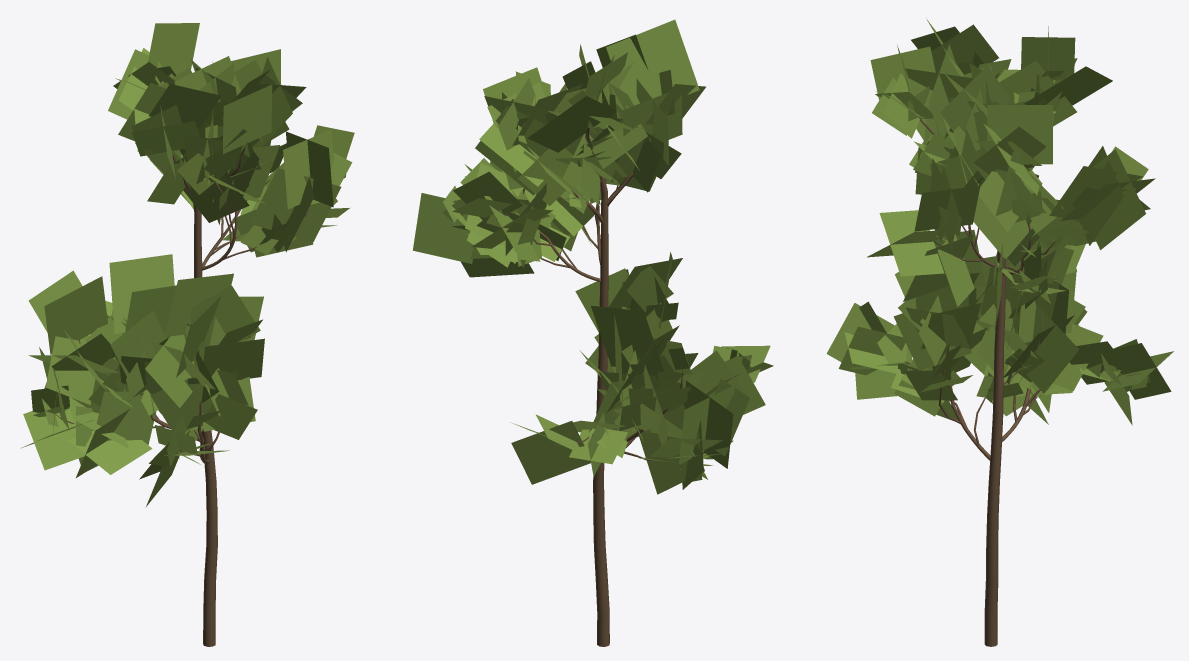
File: meadow-aspen-b.glb
3 renders of one model, left to right at view 1: azimuth 30°, elevation 25°; view 2: azimuth 150°, elevation 25°; view 3: azimuth 270°, elevation 25°, orthographic.
Visible parts, largest first — view 1: leaves, bark; view 2: leaves, bark; view 3: leaves, bark.
Part boxes in pixels (<box>): leaves: <box>20,23,354,507</box>; bark: <box>55,147,309,646</box>; leaves: <box>412,19,773,494</box>; bark: <box>495,122,704,646</box>; leaves: <box>826,18,1173,425</box>; bark: <box>905,119,1079,646</box>.
Size of the model in its own units: 20.95 by 37.5 by 19.36.
